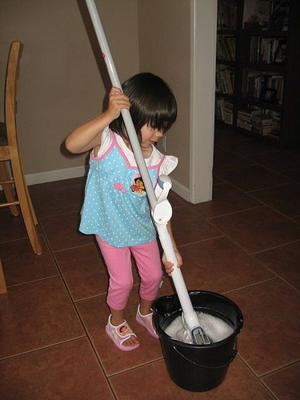person: (64, 70, 185, 353)
